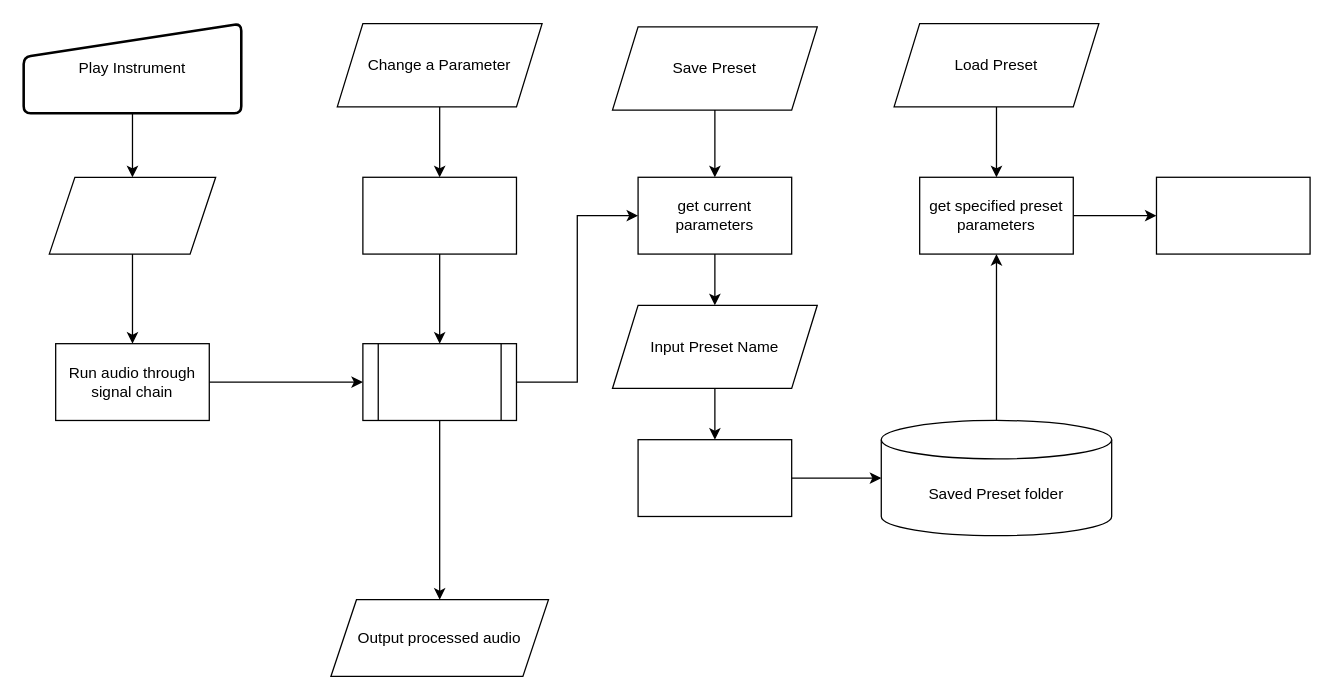
The diagram is 1332 pixels wide and 699 high, and some of its shapes have lost their labels. The shapes that lost their labels are listed below. From the top down, each one's centre as x and y in pixels, then its label:
At (x=132, y=215): "Read Audio Input".
At (x=439, y=215): "Adjust value of altered parameter according to input".
At (x=1232, y=215): "apply preset parameters".
At (x=439, y=381): "DSP Algorithms".
At (x=714, y=477): "Save to presets folder".
